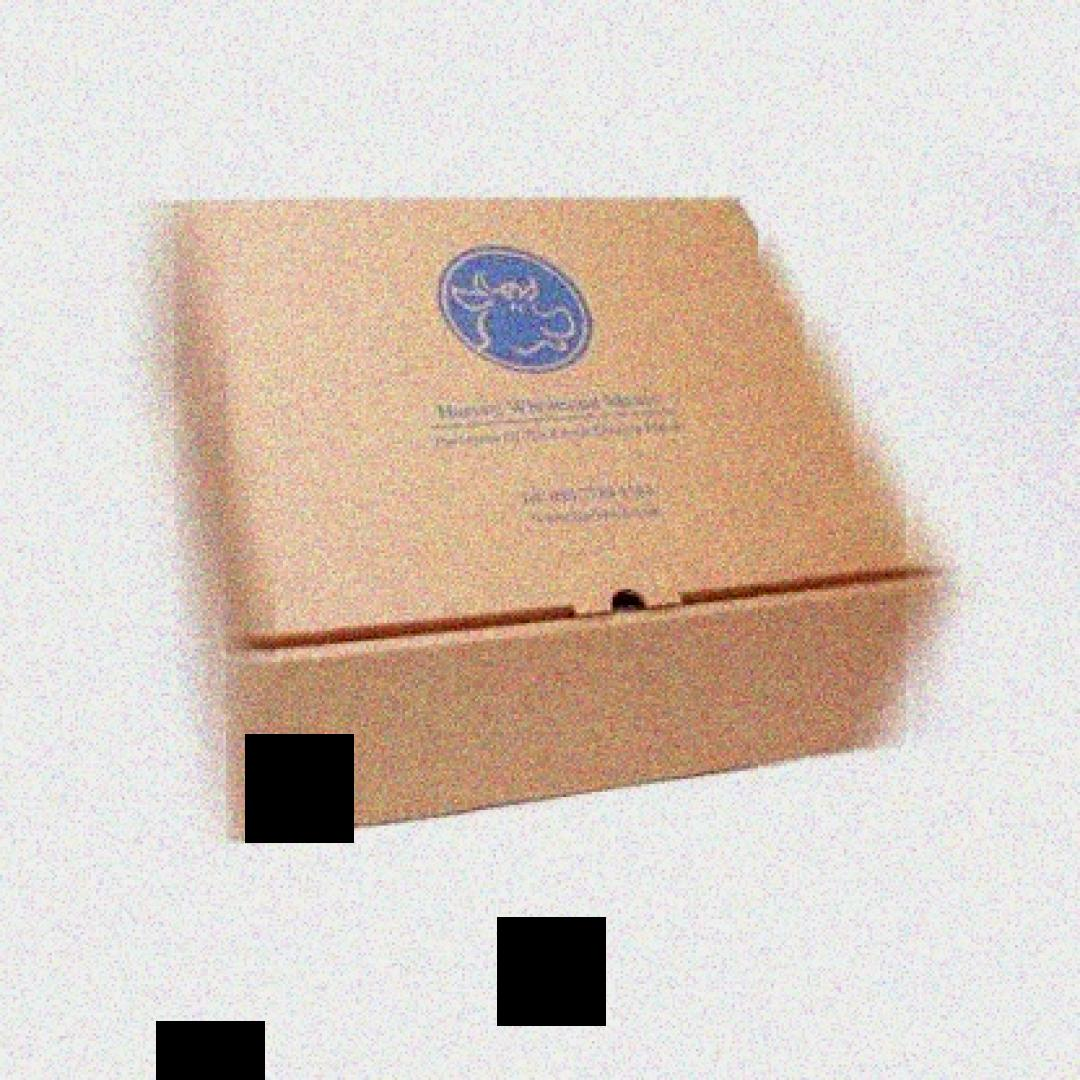package: (159, 202, 951, 846)
